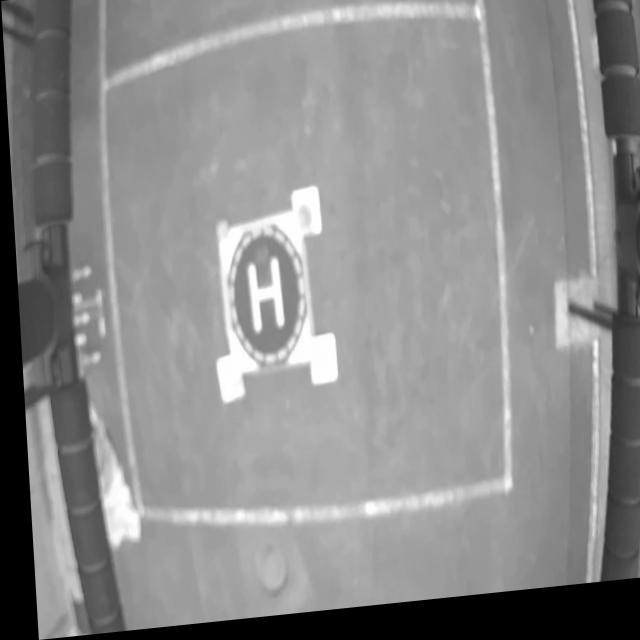Helipad: (242, 262, 281, 337)
